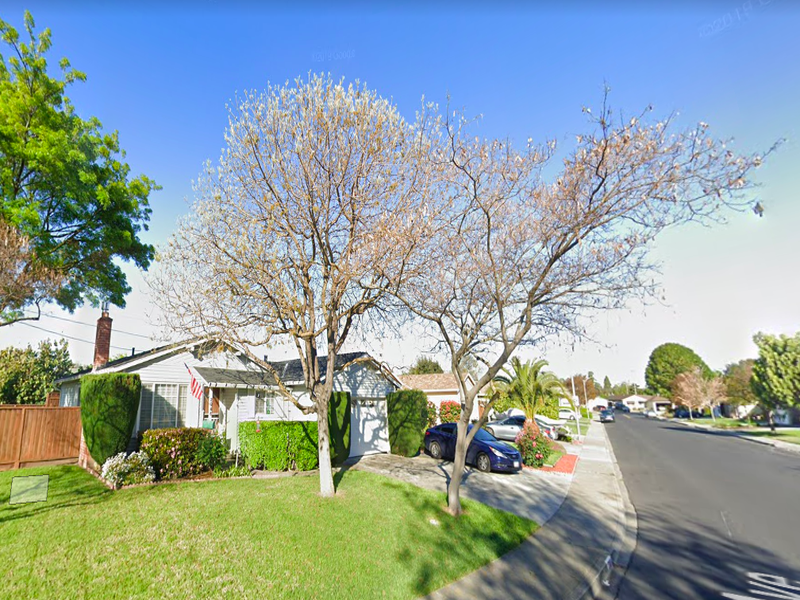tree: (390, 80, 758, 519), (145, 70, 445, 499)
